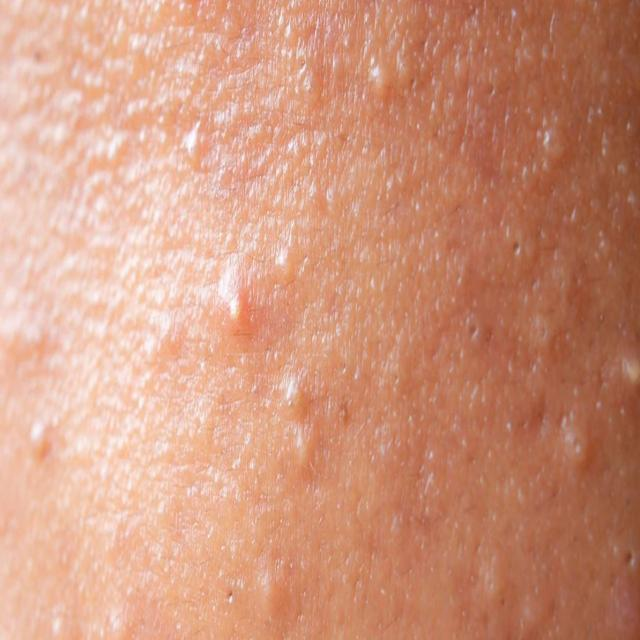fungal: (23, 22, 623, 603)
